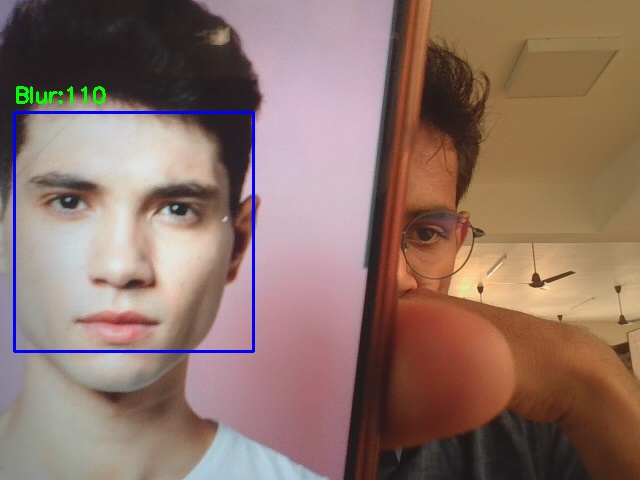fake: (14, 112, 253, 351)
